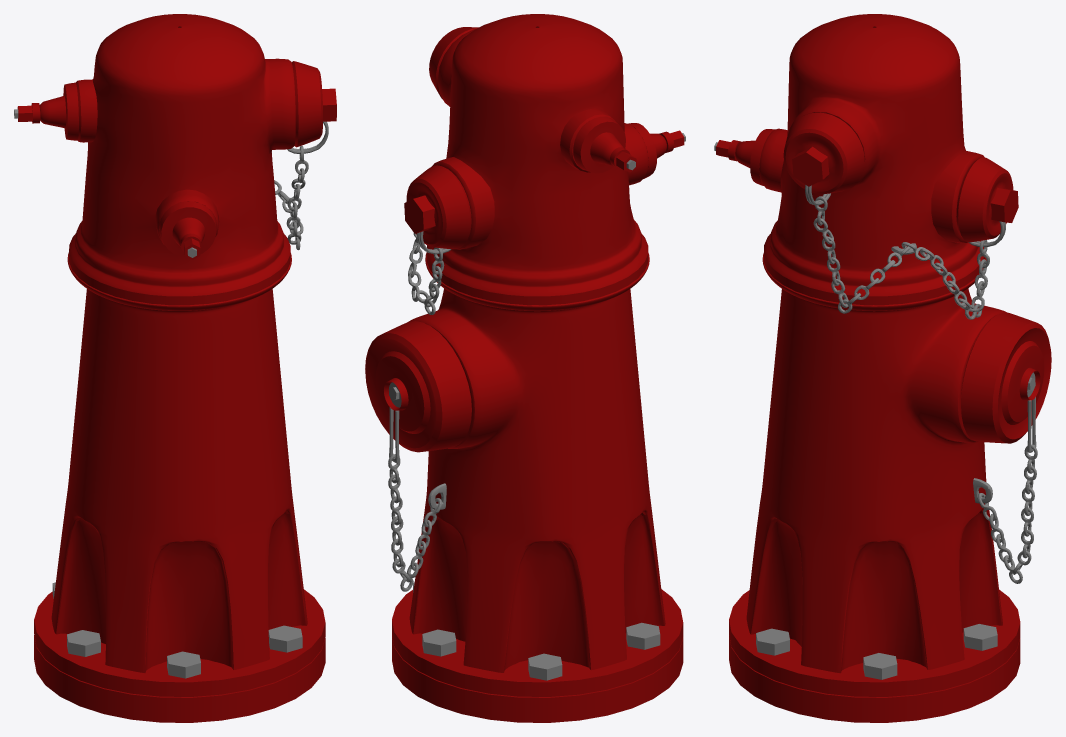
3 renders of one model, left to right at view 1: azimuth 30°, elevation 25°; view 2: azimuth 150°, elevation 25°; view 3: azimuth 270°, elevation 25°, orthographic.
Parts seen in each view (by area): view 1: Object001, a_low, b_low; view 2: Object001, a_low, b_low; view 3: Object001, a_low, b_low.
Boxes of the visible parts, x1,y1,x2,y2 form: Object001: (34,252,325,722); a_low: (17,14,336,305); b_low: (14,109,328,678); Object001: (365,252,683,722); a_low: (404,14,684,305); b_low: (388,133,685,680); Object001: (729,253,1051,722); a_low: (716,14,1018,305); b_low: (714,142,1037,679).
Size of the model in its own units: 684 by 1595 by 768.
